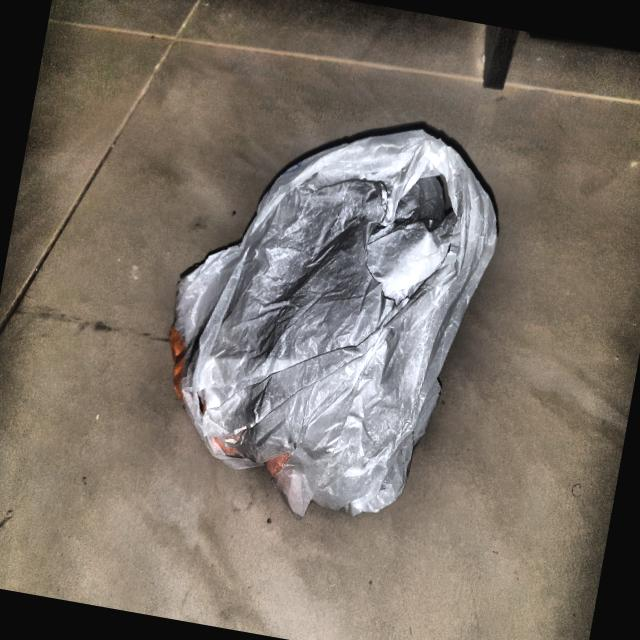plastic bag: (133, 84, 522, 552)
